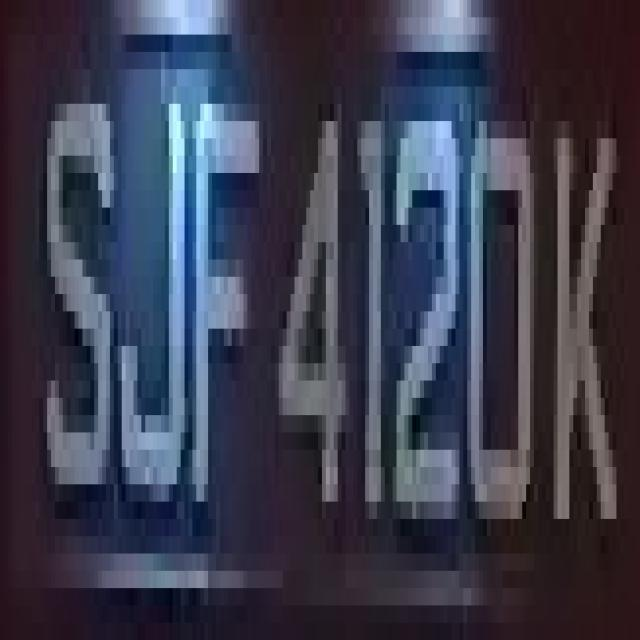0: (463, 87, 538, 536)
1: (357, 69, 393, 554)
2: (389, 69, 459, 554)
4: (271, 34, 342, 554)
F: (192, 52, 263, 571)
J: (114, 35, 192, 536)
K: (542, 70, 628, 606)
S: (35, 87, 114, 536)
